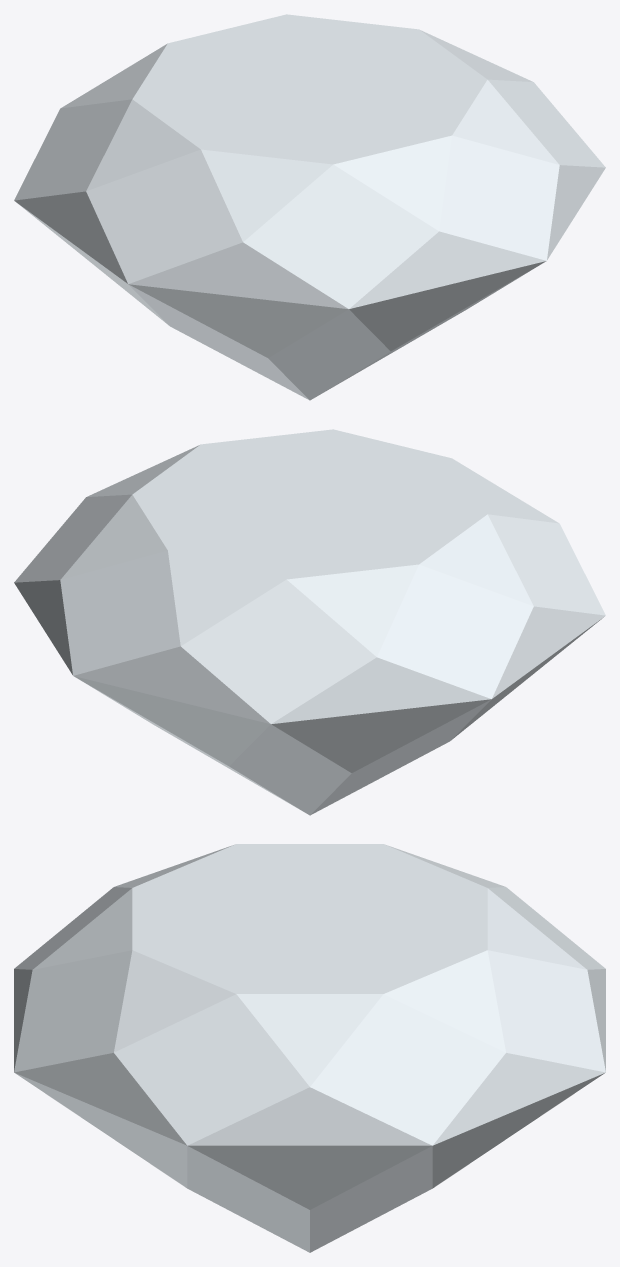
File: diamond.fbx
The picture shows the model from 3 angles, top to bottom: view 1: azimuth 30°, elevation 25°; view 2: azimuth 150°, elevation 25°; view 3: azimuth 270°, elevation 25°; orthographic projection. The views are drawn at different scales.
Parts seen in each view (by area): view 1: Gem.001; view 2: Gem.001; view 3: Gem.001.
Part boxes in pixels (x1=…): Gem.001: x1=14, y1=14, x2=605, y2=400; Gem.001: x1=14, y1=429, x2=605, y2=815; Gem.001: x1=14, y1=844, x2=605, y2=1252.
Bounding box in the file's own units: 185 × 115 × 185.
